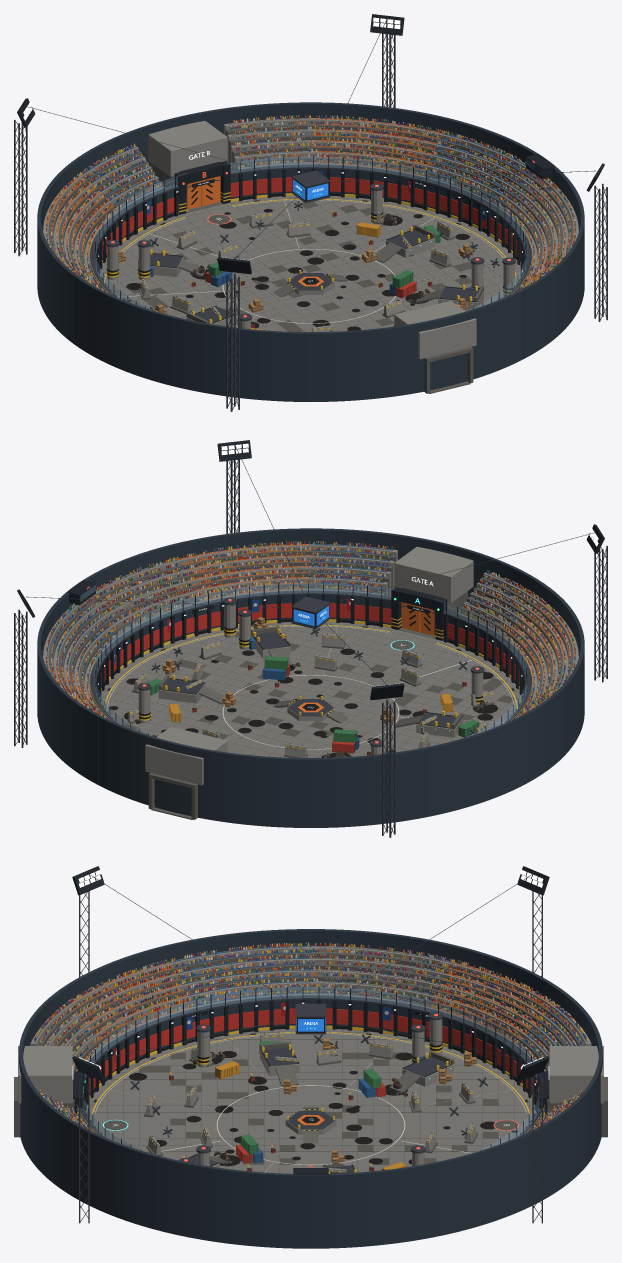
Rendered from arena.glb.
3 views of the same model, one above another, from view 1: azimuth 30°, elevation 25°; view 2: azimuth 150°, elevation 25°; view 3: azimuth 270°, elevation 25° (orthographic). The views are drawn at different scales.
Parts seen in each view (by area): view 1: stand_back_wall, floor, wall_buttresses, blast_glass, wall_impact_panels, gatehouse_B, wall_caps, seats_b, floor_joints, floor_patches, gatehouse_A, stand_tier_8 (+28 smaller); view 2: stand_back_wall, floor, wall_buttresses, blast_glass, gatehouse_A, wall_impact_panels, wall_caps, floor_joints, seats_b, gatehouse_B, floor_patches, stand_tier_8 (+28 smaller); view 3: stand_back_wall, floor, wall_buttresses, blast_glass, wall_impact_panels, floor_joints, floor_patches, seats_b, wall_caps, stand_tier_8, wall_panels, stand_tier_7 (+28 smaller).
Boxes of the visible parts, x1=… form: stand_back_wall: x1=37, y1=102, x2=584, y2=401; floor: x1=100, y1=195, x2=522, y2=331; wall_buttresses: x1=94, y1=156, x2=527, y2=311; blast_glass: x1=95, y1=156, x2=527, y2=310; wall_impact_panels: x1=102, y1=177, x2=520, y2=260; gatehouse_B: x1=148, y1=121, x2=227, y2=176; wall_caps: x1=89, y1=164, x2=532, y2=296; seats_b: x1=47, y1=118, x2=575, y2=290; floor_joints: x1=103, y1=197, x2=519, y2=331; floor_patches: x1=129, y1=201, x2=504, y2=331; gatehouse_A: x1=394, y1=301, x2=476, y2=359; stand_tier_8: x1=43, y1=118, x2=578, y2=250; stand_back_wall: x1=37, y1=528, x2=584, y2=827; floor: x1=99, y1=621, x2=521, y2=757; wall_buttresses: x1=94, y1=582, x2=527, y2=737; blast_glass: x1=94, y1=582, x2=526, y2=736; gatehouse_A: x1=394, y1=547, x2=473, y2=602; wall_impact_panels: x1=101, y1=603, x2=519, y2=686; wall_caps: x1=89, y1=590, x2=532, y2=722; floor_joints: x1=102, y1=623, x2=518, y2=757; seats_b: x1=46, y1=544, x2=574, y2=713; gatehouse_B: x1=145, y1=727, x2=227, y2=785; floor_patches: x1=124, y1=624, x2=516, y2=739; stand_tier_8: x1=43, y1=544, x2=578, y2=676; stand_back_wall: x1=19, y1=929, x2=602, y2=1248; floor: x1=85, y1=1028, x2=536, y2=1173; wall_buttresses: x1=84, y1=986, x2=537, y2=1150; blast_glass: x1=82, y1=987, x2=539, y2=1150; wall_impact_panels: x1=89, y1=1008, x2=532, y2=1094; floor_joints: x1=90, y1=1030, x2=534, y2=1172; floor_patches: x1=139, y1=1052, x2=498, y2=1164; seats_b: x1=66, y1=962, x2=555, y2=1043; wall_caps: x1=76, y1=995, x2=545, y2=1136; stand_tier_8: x1=30, y1=945, x2=591, y2=1045; wall_panels: x1=93, y1=1000, x2=528, y2=1089; stand_tier_7: x1=37, y1=951, x2=584, y2=1045.
Size of what is drawn, in the model's own units: 149 by 46.13 by 152.
